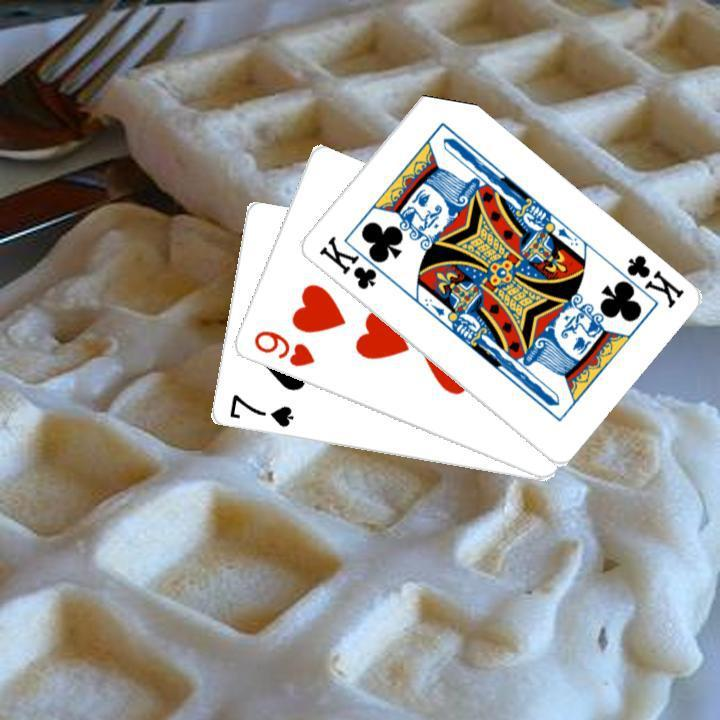7: (224, 390, 295, 430)
9: (248, 326, 316, 369)
K: (314, 231, 392, 292), (607, 250, 686, 310)
